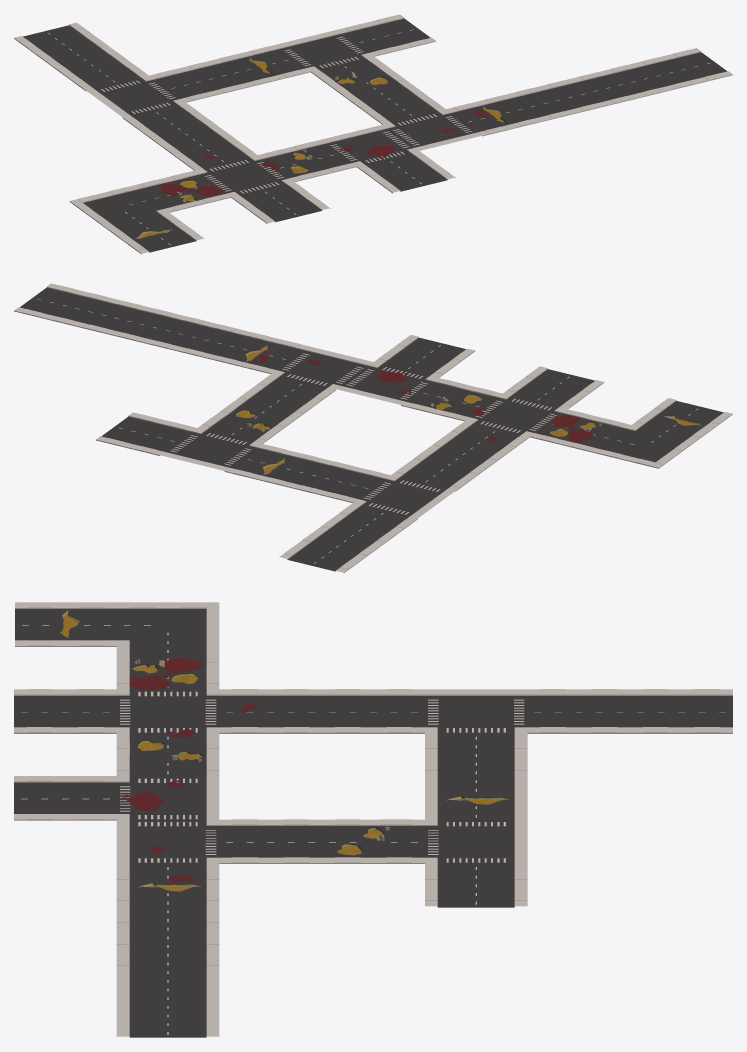
The model's file is LStreet.gltf.
3 renders of one model, top to bottom at view 1: azimuth 30°, elevation 25°; view 2: azimuth 150°, elevation 25°; view 3: azimuth 270°, elevation 25°, orthographic. The views are drawn at different scales.
Visible parts, largest first — view 1: Street_4Way; view 2: Street_4Way; view 3: Street_4Way.
Part boxes in pixels (x1,y1,x2,y2): Street_4Way: (14,14,732,254); Street_4Way: (14,283,732,573); Street_4Way: (14,602,732,1037).
Size of the model in its own units: 80 by 0.5802 by 56.
Materials: 33 (33 with a texture image).
